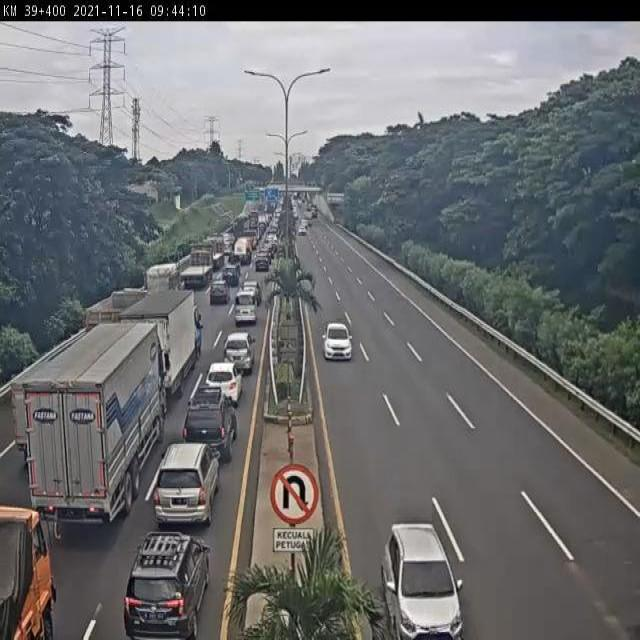ARABA: (375, 513, 471, 640), (125, 522, 218, 640), (148, 438, 229, 530), (182, 391, 248, 464), (319, 313, 356, 368), (205, 356, 244, 404), (222, 326, 259, 374), (234, 283, 260, 328), (205, 277, 232, 311)
KAMYONET: (0, 477, 66, 640), (121, 289, 204, 400), (83, 288, 154, 371), (144, 259, 185, 300)
TIR: (21, 328, 171, 531), (182, 241, 218, 287)
